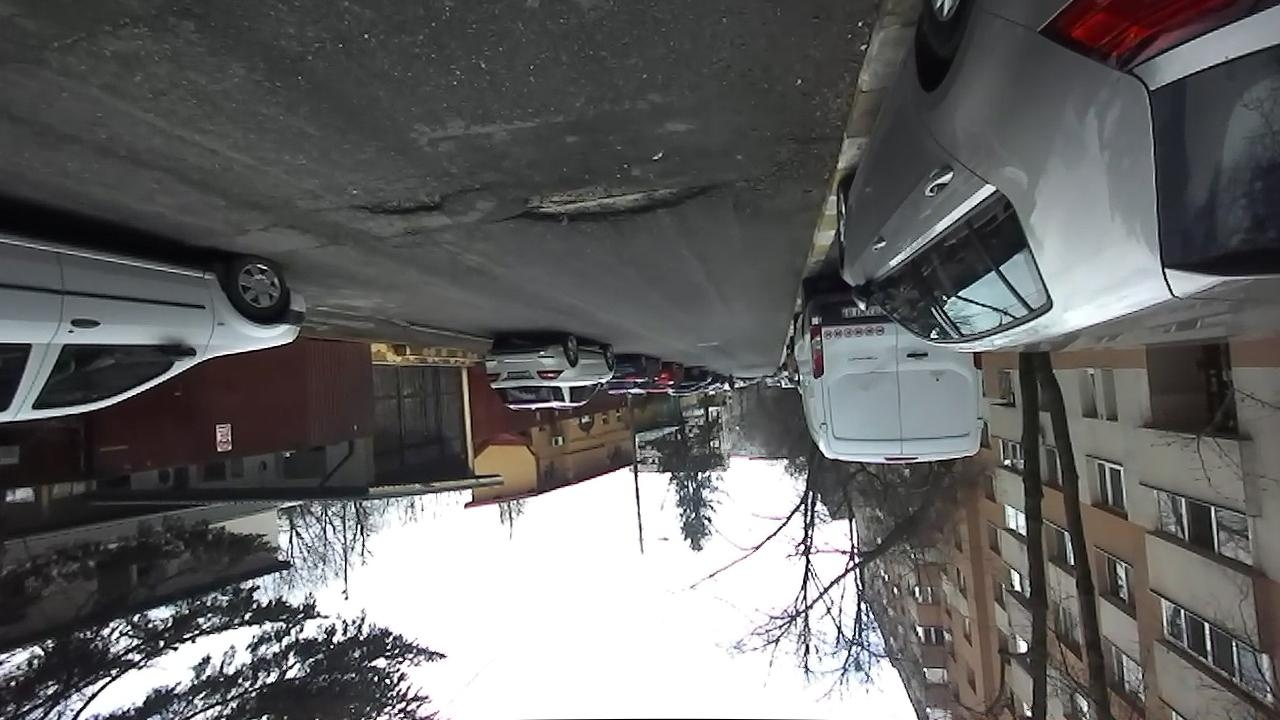pothole: (492, 173, 741, 229), (344, 182, 484, 219)
